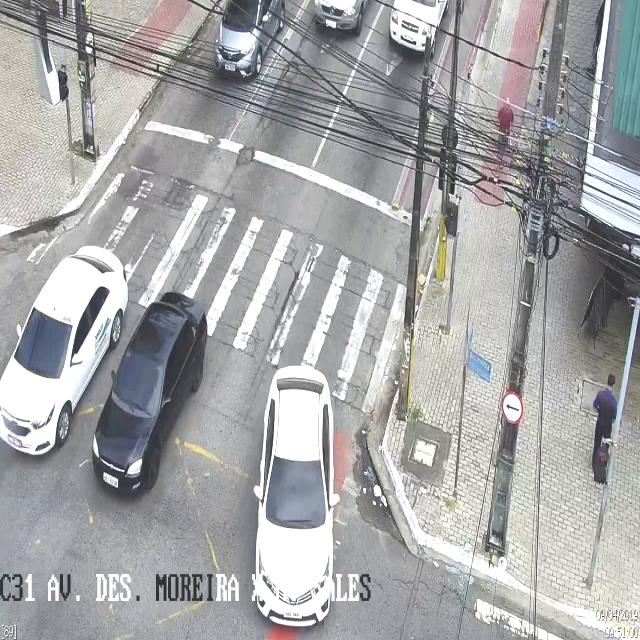Car: (0, 247, 130, 457), (94, 290, 208, 503), (258, 362, 332, 631), (213, 6, 283, 75), (387, 1, 446, 59), (309, 0, 375, 38)
